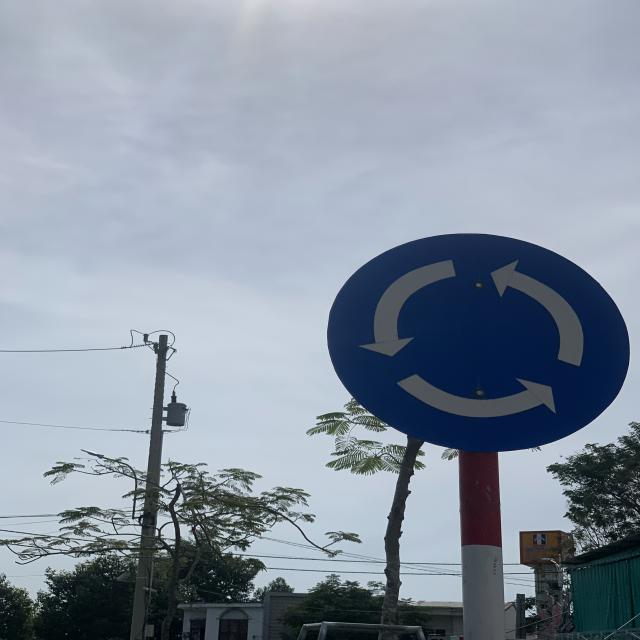Xe_Bus: (326, 232, 634, 452)
